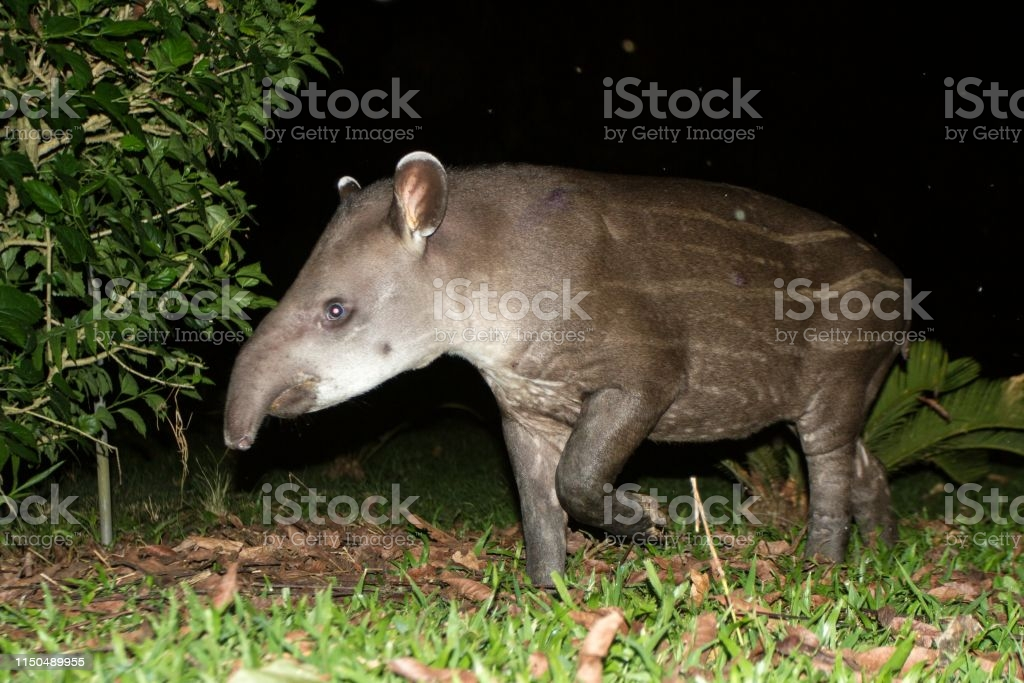Anta: (212, 135, 928, 595)
